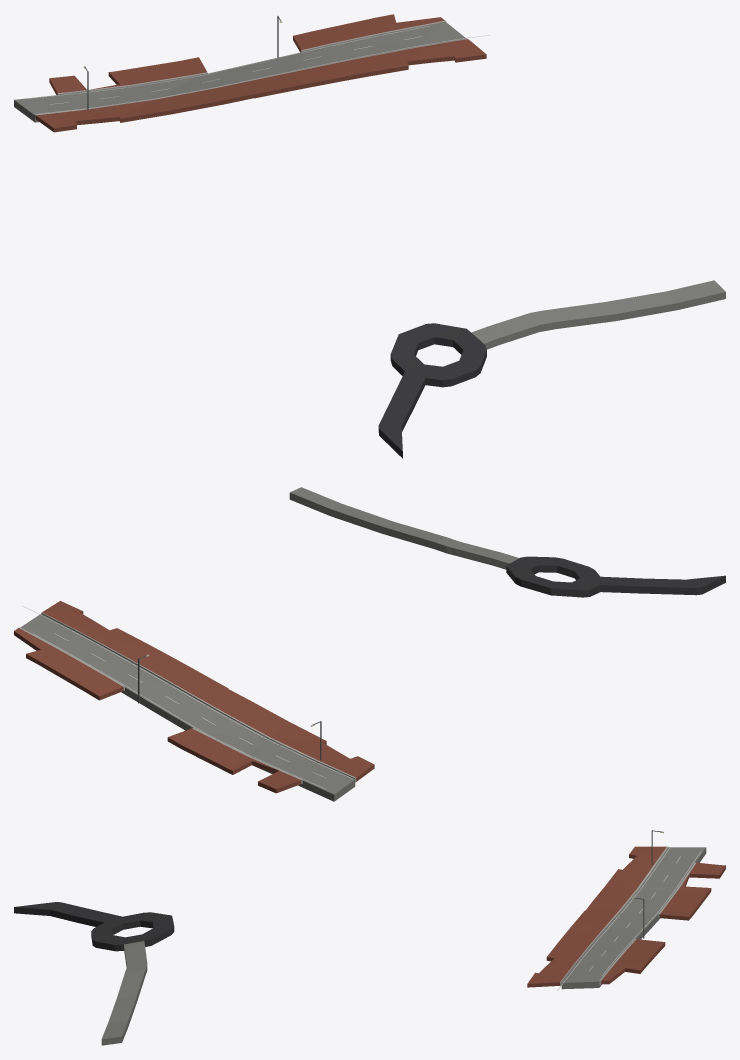
3 views of the same model, one above another, from view 1: azimuth 30°, elevation 25°; view 2: azimuth 150°, elevation 25°; view 3: azimuth 270°, elevation 25° (orthographic). The views are drawn at different scales.
Size of the model in its own units: 69.46 by 21.63 by 123.
